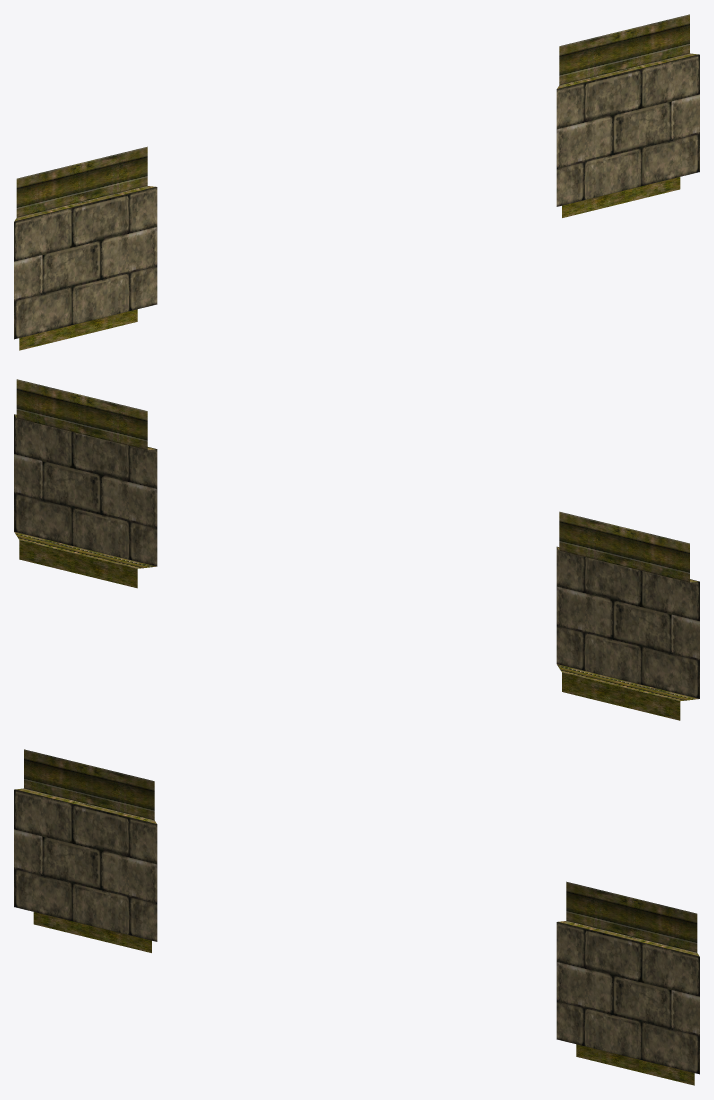
File: OVERHILL_A_01_OBJECT173.fbx
3 views of the same model, one above another, from view 1: azimuth 30°, elevation 25°; view 2: azimuth 150°, elevation 25°; view 3: azimuth 330°, elevation 25° (orthographic).
Visible parts, largest first — view 1: OVERHILL_A_01_OBJECT173; view 2: OVERHILL_A_01_OBJECT173; view 3: OVERHILL_A_01_OBJECT173.
Part boxes in pixels (<box>): OVERHILL_A_01_OBJECT173: <box>14,14,699,350</box>; OVERHILL_A_01_OBJECT173: <box>14,379,699,720</box>; OVERHILL_A_01_OBJECT173: <box>14,749,699,1085</box>.
Bounding box in the file's own units: 110000 × 27000 × 2000.
Materials: 3 (3 with a texture image).
